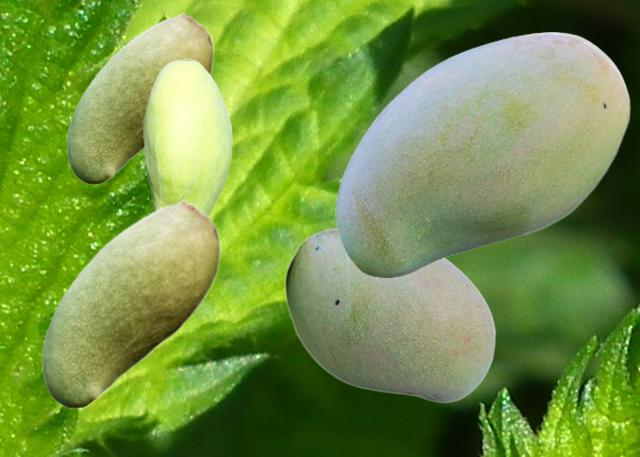green_mango: (335, 32, 630, 276), (41, 199, 220, 407), (284, 227, 495, 402), (66, 12, 213, 183), (143, 58, 231, 214)
